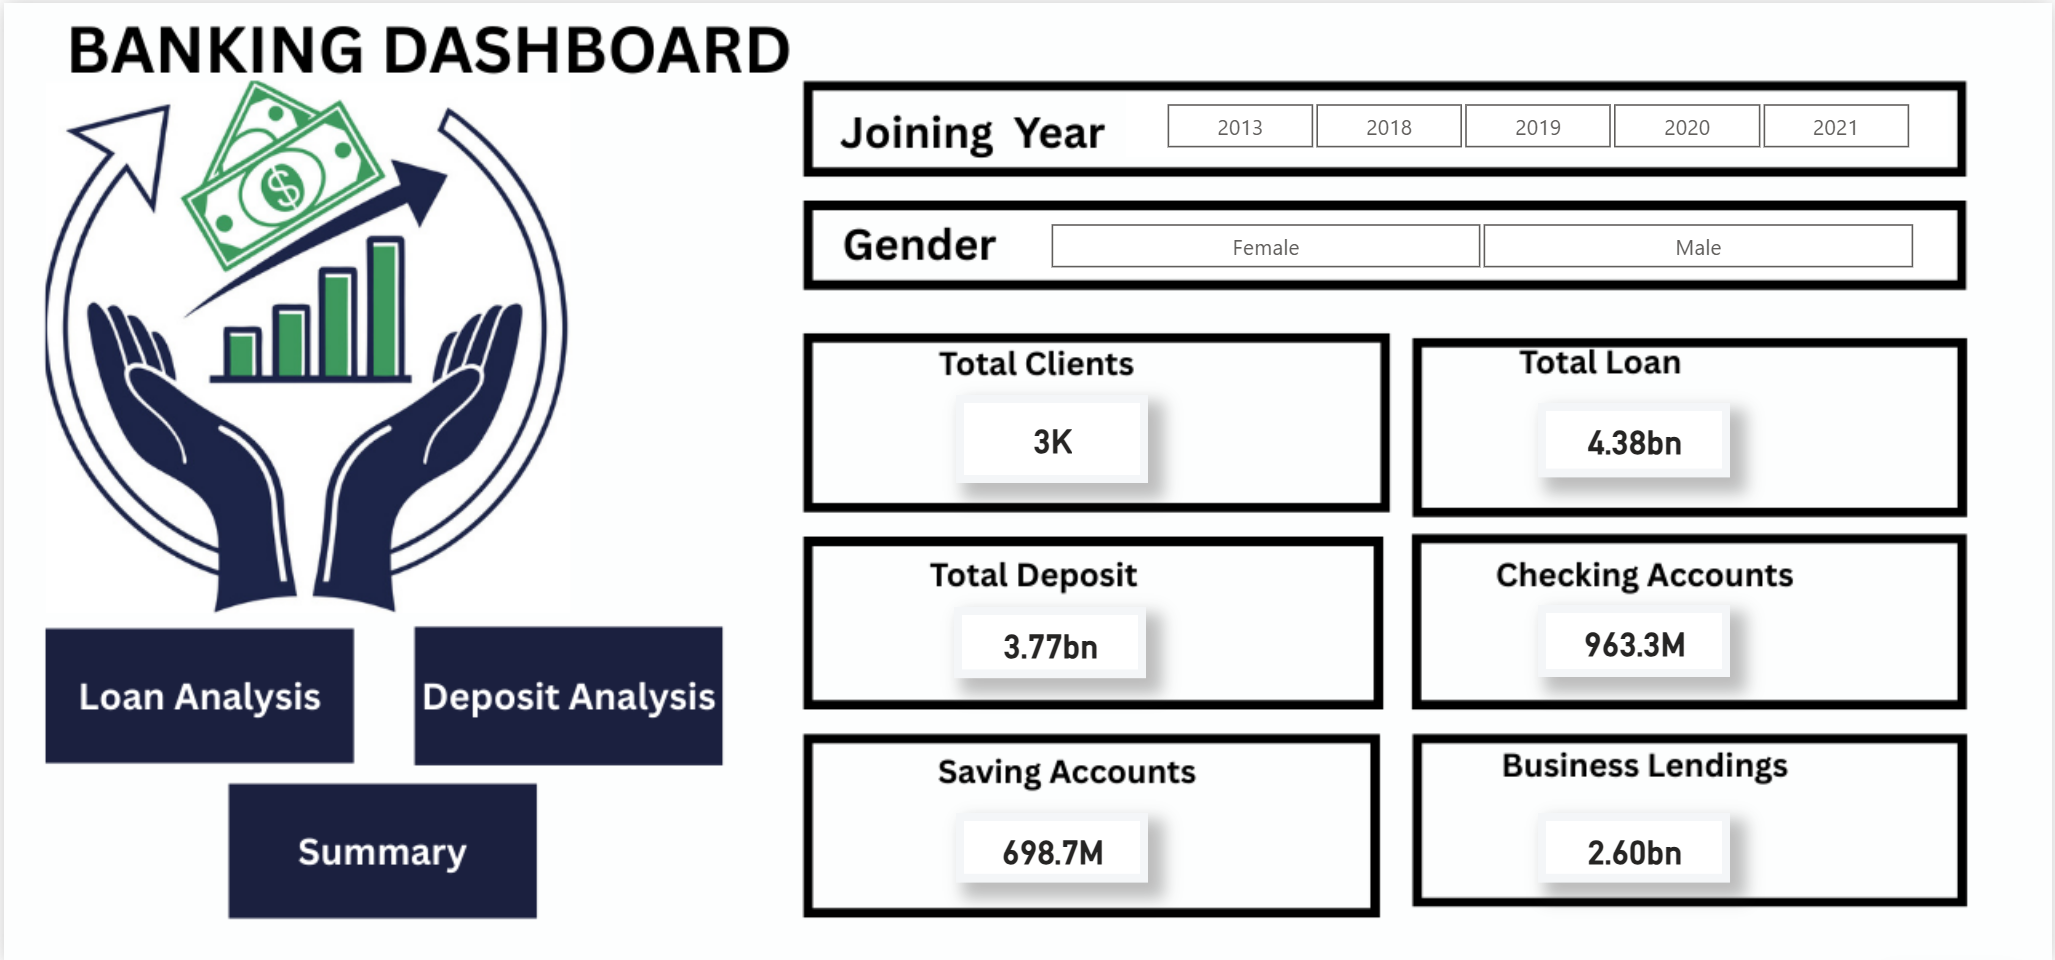

The dashboard page shown, as its layout file describes it:
{"tool":"powerbi","page":{"name":"Home","canvas":[1280,600],"ordinal":0},"visuals":[{"type":"cardVisual","fields":{"Data":["CountNonNull(Banking_Clients.Name)"]},"box":[595,245,120,55],"z":0},{"type":"cardVisual","fields":{"Data":["Banking_Clients.Total Loan"]},"box":[958.3,250,120,46.7],"z":1000},{"type":"cardVisual","fields":{"Data":["Banking_Clients.Total Deposit"]},"box":[594.3,377.1,120,44.3],"z":2000},{"type":"cardVisual","fields":{"Data":["Banking_Clients.Total Checking Accounts"]},"box":[958.3,376.7,120,45],"z":3000},{"type":"cardVisual","fields":{"Data":["Banking_Clients.Total Saving Accounts"]},"box":[595,506.7,120,43.3],"z":4000},{"type":"cardVisual","fields":{"Data":["Banking_Clients.Total Business Lending"]},"box":[958.3,506.7,120,43.3],"z":5000},{"type":"slicer","fields":{"Values":["Banking_Clients.GenderId"]},"box":[628.3,131.7,588.3,40],"z":6000},{"type":"slicer","fields":{"Values":["Banking_Clients.Year Of Joining"]},"box":[701.7,56.7,513.3,40],"z":7000},{"type":"actionButton","box":[31.7,400,176.7,63.3],"z":8000},{"type":"actionButton","box":[257.1,388.6,190,85.7],"z":8001},{"type":"actionButton","box":[141.4,485.7,190,85.7],"z":8002}]}

Visuals, with their boxes in screenshot pixels (x1, y1, x2, y2), scaled from the page's 1280x600 canvas onto the 2055x960 screenshot:
cardVisual - CountNonNull(Banking_Clients.Name): region(955, 392, 1148, 480)
cardVisual - Banking_Clients.Total Loan: region(1539, 400, 1731, 475)
cardVisual - Banking_Clients.Total Deposit: region(954, 603, 1147, 674)
cardVisual - Banking_Clients.Total Checking Accounts: region(1539, 603, 1731, 675)
cardVisual - Banking_Clients.Total Saving Accounts: region(955, 811, 1148, 880)
cardVisual - Banking_Clients.Total Business Lending: region(1539, 811, 1731, 880)
slicer - Banking_Clients.GenderId: region(1009, 211, 1953, 275)
slicer - Banking_Clients.Year Of Joining: region(1127, 91, 1951, 155)
actionButton: region(51, 640, 335, 741)
actionButton: region(413, 622, 718, 759)
actionButton: region(227, 777, 532, 914)
